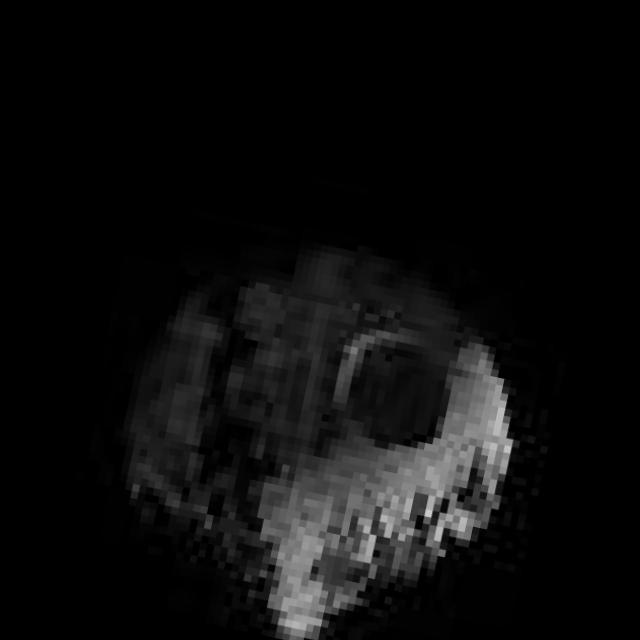Death Star: (73, 201, 560, 640)
